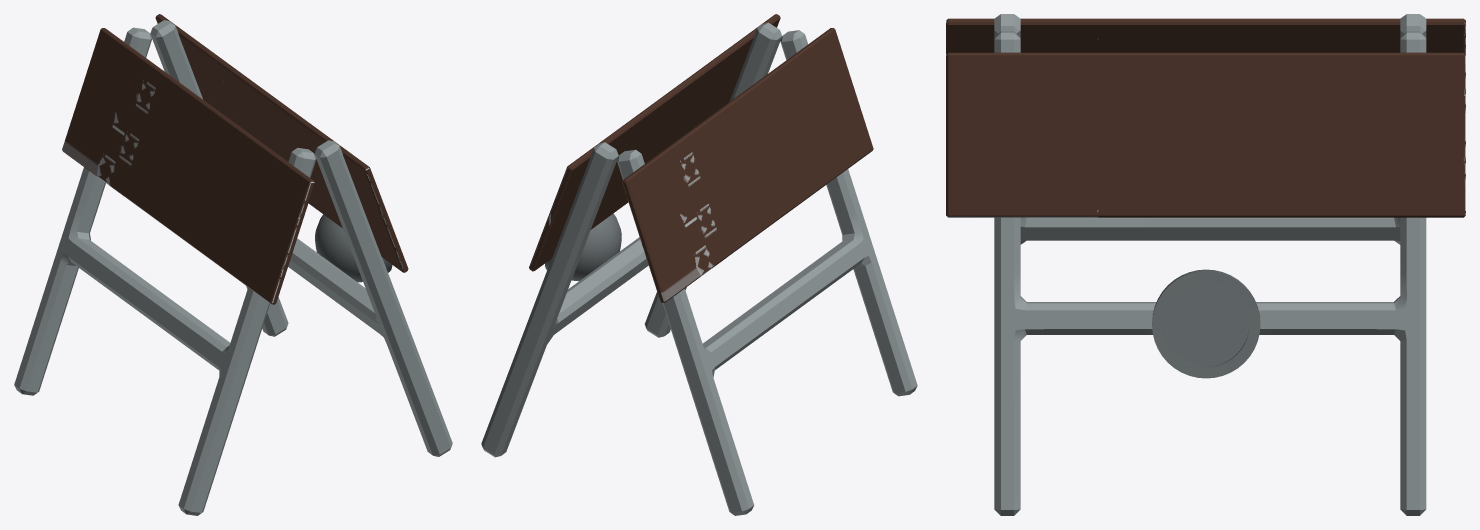
Rendered from Barrier_1.fbx.
The picture shows the model from 3 angles, left to right: view 1: azimuth 30°, elevation 25°; view 2: azimuth 150°, elevation 25°; view 3: azimuth 270°, elevation 25°; orthographic projection. The views are drawn at different scales.
Visible parts, largest first — view 1: pCube11, polySurface4, pSphere1; view 2: pCube11, polySurface4, pSphere1; view 3: pCube11, polySurface4, pSphere1.
Part boxes in pixels (x1,y1,x2,y2): pCube11: (62, 14, 408, 304); polySurface4: (14, 20, 452, 515); pSphere1: (315, 214, 392, 282); pCube11: (529, 14, 873, 302); polySurface4: (481, 22, 917, 515); pSphere1: (545, 213, 621, 281); pCube11: (946, 18, 1465, 217); polySurface4: (994, 14, 1426, 515); pSphere1: (1152, 269, 1260, 378).
Size of the model in its own units: 1.6 by 1.86 by 2.09.
